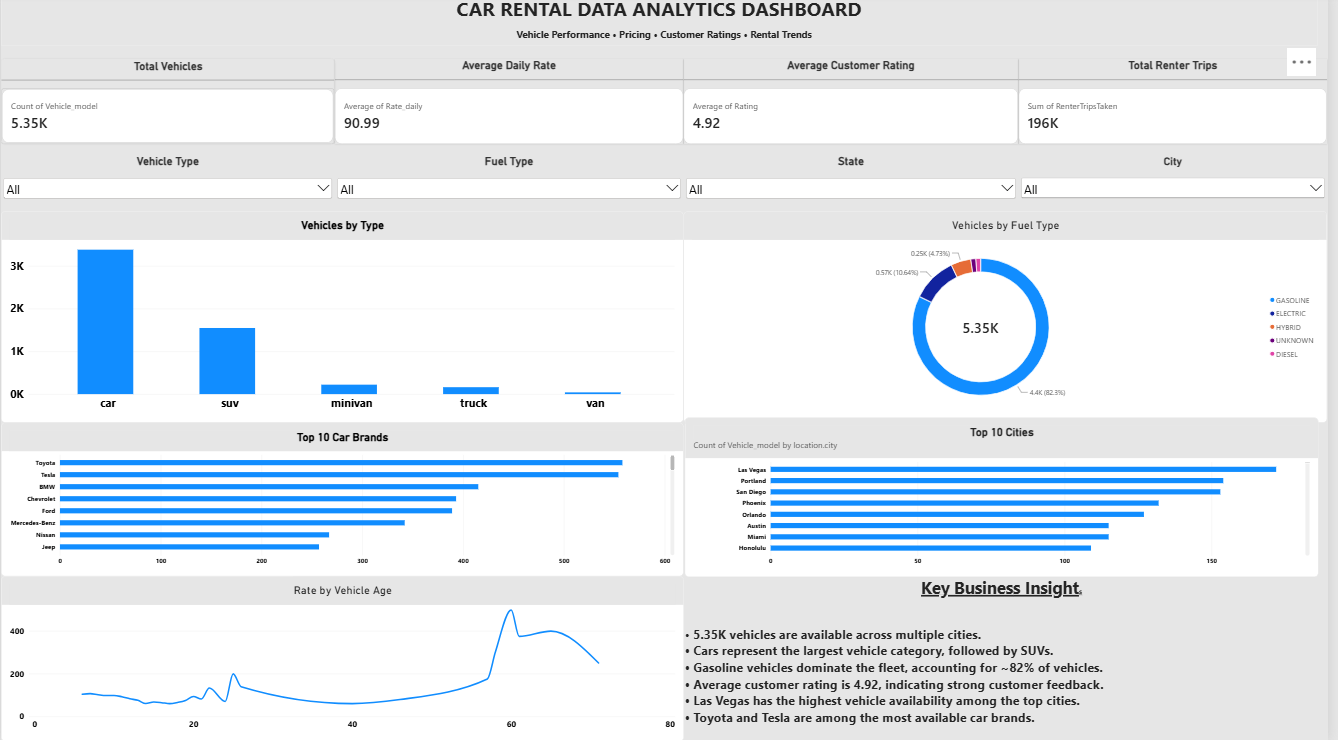

Layout of this report page (visuals, bound fields, positions):
{"tool":"powerbi","page":{"name":"Page 1","canvas":[2560,1440],"ordinal":0},"visuals":[{"type":"cardVisual","title":"Total Vehicles","fields":{"Data":["CountNonNull(carrentaldb cleaned_data_sql.Vehicle_model)"]},"box":[0,122.1,644.2,164.1],"z":0},{"type":"cardVisual","title":"Average Daily Rate","fields":{"Data":["Avg(carrentaldb cleaned_data_sql.Rate_daily)"]},"box":[644.2,123.1,673.2,164.1],"z":1000},{"type":"cardVisual","title":"Average Customer Rating","fields":{"Data":["Avg(carrentaldb cleaned_data_sql.Rating)"]},"box":[1317.4,123.1,646.7,164.1],"z":2000},{"type":"cardVisual","title":"Total Renter Trips","fields":{"Data":["Sum(carrentaldb cleaned_data_sql.RenterTripsTaken)"]},"box":[1964.1,123.1,596,164.1],"z":3000},{"type":"clusteredColumnChart","title":"Vehicles by Type","fields":{"Category":["carrentaldb cleaned_data_sql.vehicle.type"],"Y":["CountNonNull(carrentaldb cleaned_data_sql.Vehicle_model)"]},"box":[0,416.6,1317.4,407.8],"z":4000},{"type":"donutChart","title":"Vehicles by Fuel Type","fields":{"Category":["carrentaldb cleaned_data_sql.Fuel_Type"],"Y":["CountNonNull(carrentaldb cleaned_data_sql.vehicle.type)"]},"box":[1317.4,417.4,1242.6,407.8],"z":5000},{"type":"clusteredBarChart","title":"Top 10 Car Brands","fields":{"Category":["carrentaldb cleaned_data_sql.vehicle.make"],"Y":["CountNonNull(carrentaldb cleaned_data_sql.Vehicle_model)"]},"box":[0,825.2,1317.4,296.8],"z":6000},{"type":"clusteredBarChart","title":"Top 10 Cities","fields":{"Category":["carrentaldb cleaned_data_sql.location.city"],"Y":["CountNonNull(carrentaldb cleaned_data_sql.Vehicle_model)"]},"box":[1318.7,814.6,1223.2,307.8],"z":7000},{"type":"lineChart","title":"Rate by Vehicle Age","fields":{"Category":["carrentaldb cleaned_data_sql.Vehicle_Age"],"Y":["Avg(carrentaldb cleaned_data_sql.Rate_daily)"]},"box":[0,1122.4,1318.7,318.4],"z":8000},{"type":"slicer","title":"Vehicle Type","fields":{"Values":["carrentaldb cleaned_data_sql.vehicle.type"]},"box":[0,308.8,644.2,108.6],"z":9000},{"type":"slicer","title":"Fuel Type","fields":{"Values":["carrentaldb cleaned_data_sql.Fuel_Type"]},"box":[644.2,308.8,673.2,108.6],"z":10000},{"type":"slicer","title":"State","fields":{"Values":["carrentaldb cleaned_data_sql.location.state"]},"box":[1317.4,308.8,646.7,108.6],"z":11000},{"type":"slicer","title":"City","fields":{"Values":["carrentaldb cleaned_data_sql.location.city"]},"box":[1964.1,308.8,596,108.6],"z":12000},{"type":"textbox","box":[0,0,2540.8,98.9],"z":13000},{"type":"textbox","box":[0,62.7,2560.1,36.2],"z":14000},{"type":"textbox","box":[0,1144,203,207],"z":15000},{"type":"textbox","box":[1319,1123,1223,317],"z":15001},{"type":"textbox","box":[1318.7,1143.6,1223.2,294.5],"z":15002},{"type":"textbox","box":[1318.7,1122.4,1223.2,100.8],"z":15003}]}

Visuals, with their boxes in screenshot pixels (x1, y1, x2, y2), scaled from the page's 2560x1440 canvas onto the 1338x740 screenshot:
"Total Vehicles" cardVisual: box=[0, 63, 337, 147]
"Average Daily Rate" cardVisual: box=[337, 63, 689, 148]
"Average Customer Rating" cardVisual: box=[689, 63, 1027, 148]
"Total Renter Trips" cardVisual: box=[1027, 63, 1337, 148]
"Vehicles by Type" clusteredColumnChart: box=[0, 214, 689, 424]
"Vehicles by Fuel Type" donutChart: box=[689, 214, 1337, 424]
"Top 10 Car Brands" clusteredBarChart: box=[0, 424, 689, 577]
"Top 10 Cities" clusteredBarChart: box=[689, 419, 1329, 577]
"Rate by Vehicle Age" lineChart: box=[0, 577, 689, 739]
"Vehicle Type" slicer: box=[0, 159, 337, 214]
"Fuel Type" slicer: box=[337, 159, 689, 214]
"State" slicer: box=[689, 159, 1027, 214]
"City" slicer: box=[1027, 159, 1337, 214]
textbox: box=[0, 0, 1328, 51]
textbox: box=[0, 32, 1337, 51]
textbox: box=[0, 588, 106, 694]
textbox: box=[689, 577, 1329, 739]
textbox: box=[689, 588, 1329, 739]
textbox: box=[689, 577, 1329, 629]
